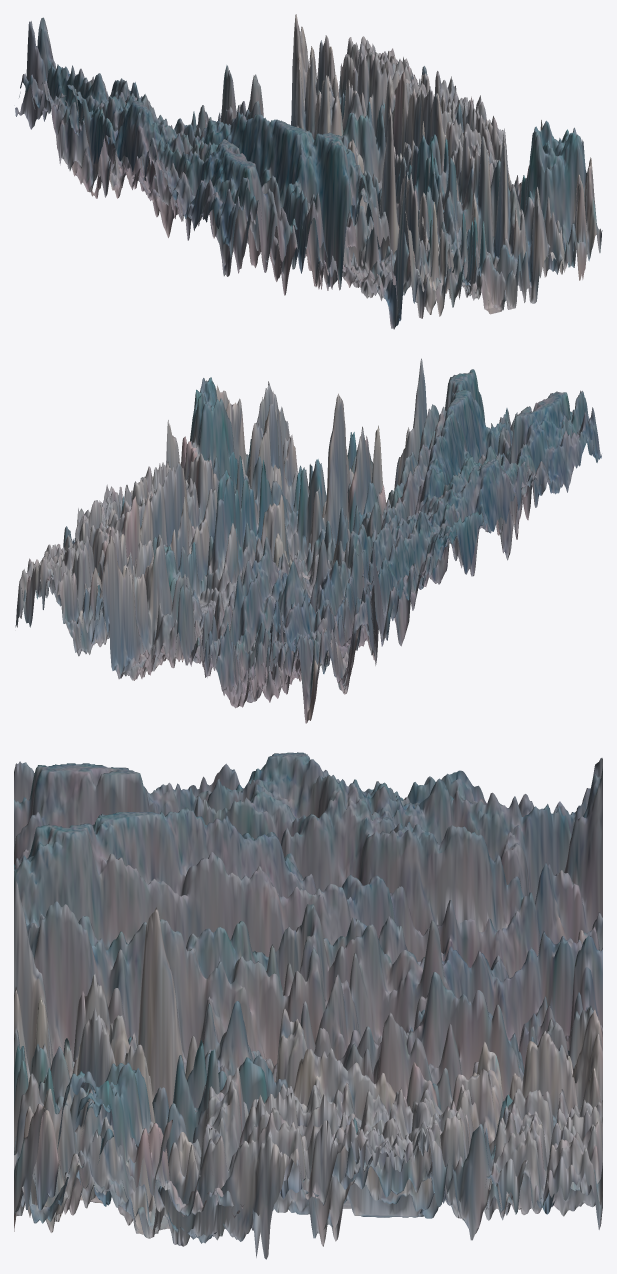
The model's file is dsm_6758d00a2a_mesh.glb.
3 views of the same model, one above another, from view 1: azimuth 30°, elevation 25°; view 2: azimuth 150°, elevation 25°; view 3: azimuth 270°, elevation 25° (orthographic). The views are drawn at different scales.
Visible parts, largest first — view 1: geometry_0; view 2: geometry_0; view 3: geometry_0.
Boxes of the visible parts, x1=… form: geometry_0: x1=15, y1=14, x2=602, y2=329; geometry_0: x1=15, y1=358, x2=601, y2=723; geometry_0: x1=14, y1=752, x2=602, y2=1259.
Size of the model in its own units: 2 by 1 by 2.
